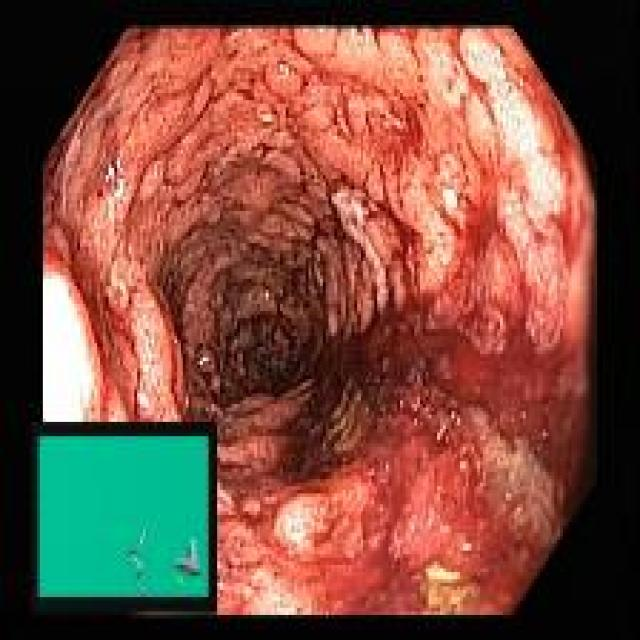ulcerative-colitis: (331, 189, 389, 314)
